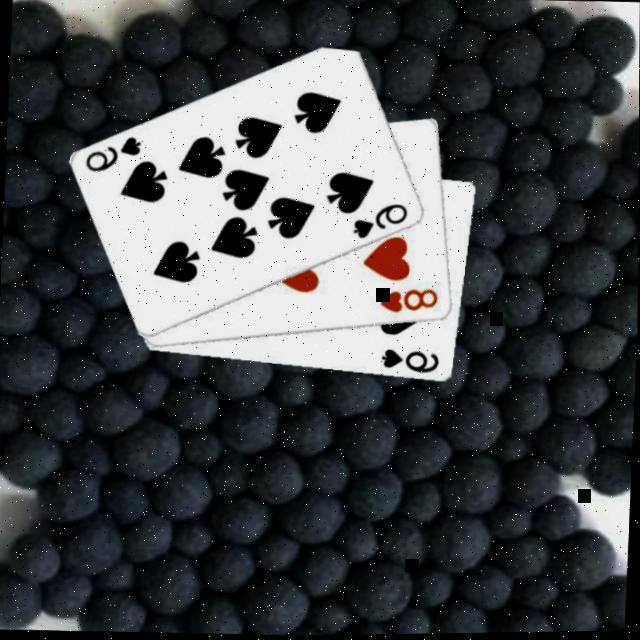6S: (379, 348, 443, 379)
8H: (378, 286, 442, 320)
9S: (350, 202, 411, 246), (84, 134, 144, 178)
